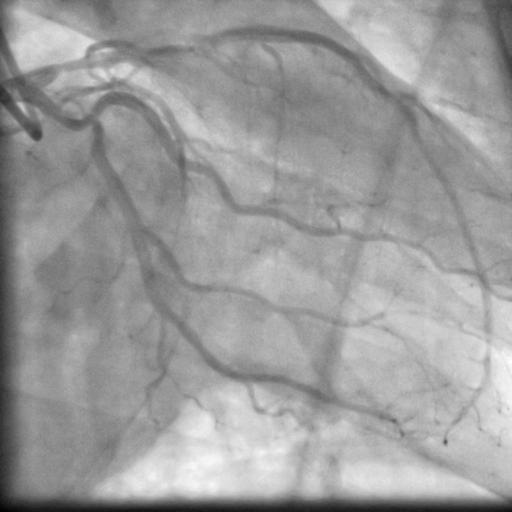Stenosis: (143, 34, 214, 60)
